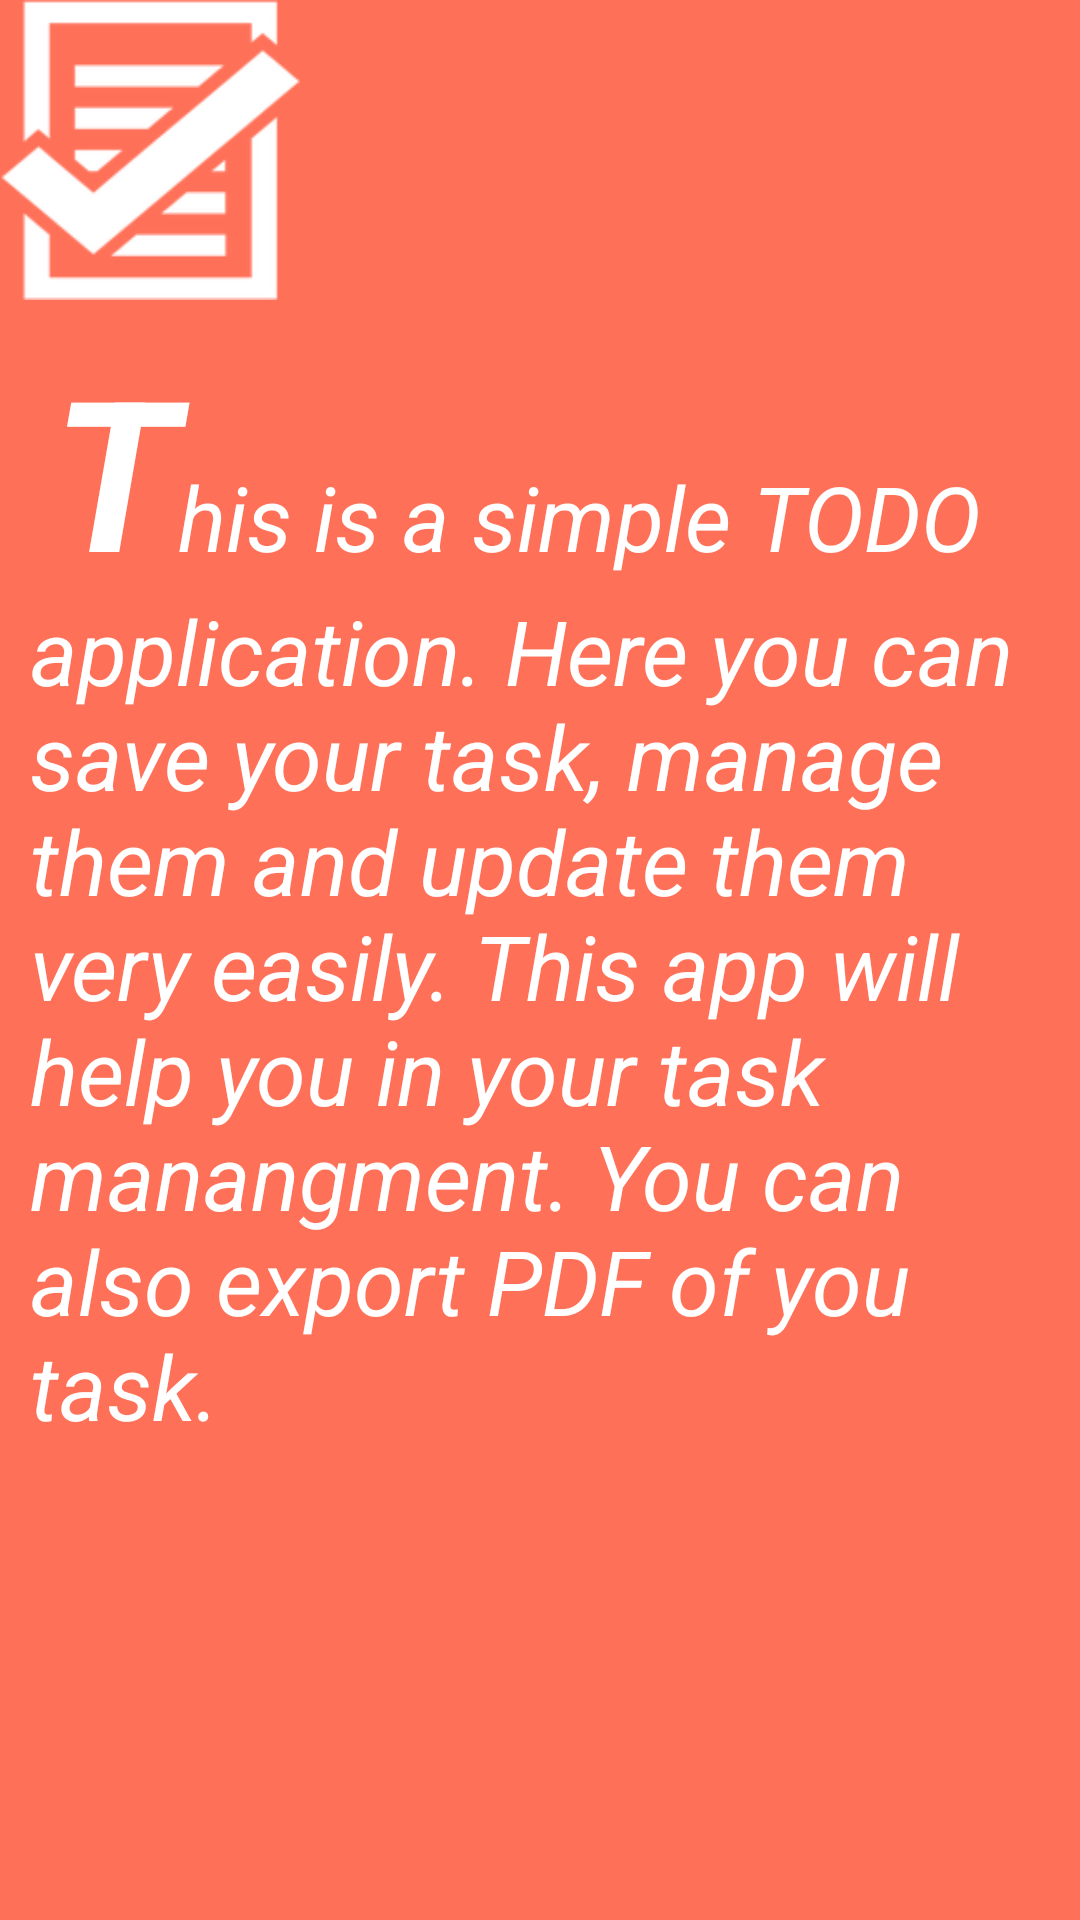

Icons on this 1080 x 1920 Android screen, each with the point to tap as point (x, y):
lancher: point (151, 150)
